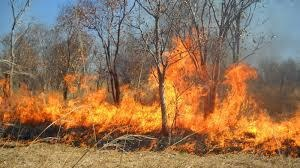fire: (28, 21, 292, 156)
